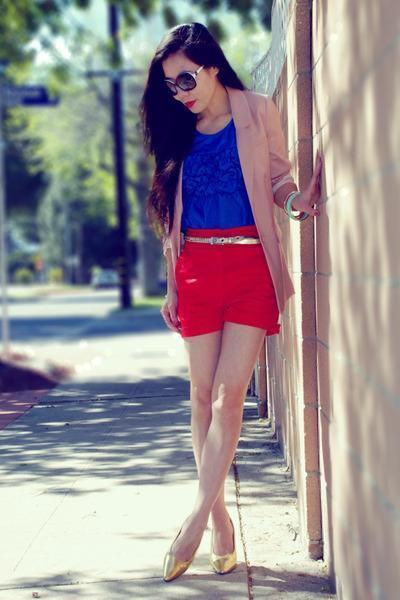jacket: (162, 84, 294, 312)
shirt: (181, 118, 251, 235)
shoe: (163, 548, 249, 586)
shorts: (175, 214, 280, 336)
sunglass: (167, 71, 196, 100)
